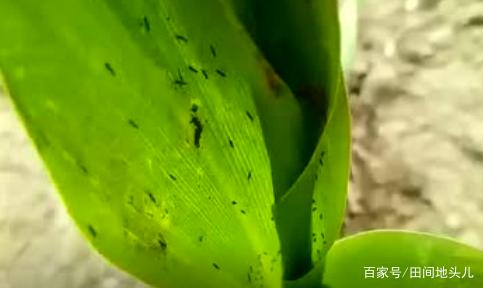thrips: (173, 33, 189, 42), (215, 68, 228, 78), (144, 16, 151, 32), (245, 110, 254, 122), (209, 45, 217, 57), (203, 69, 211, 80), (188, 65, 199, 73)
